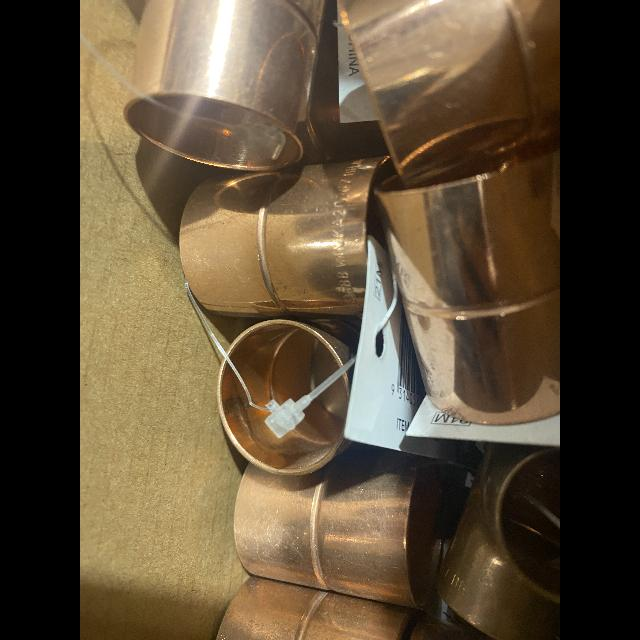Copper: (372, 146, 560, 424), (339, 0, 560, 189), (235, 443, 440, 608), (180, 158, 382, 317), (131, 0, 323, 167), (434, 447, 559, 640), (218, 362, 350, 475), (217, 577, 420, 640), (229, 320, 349, 409), (125, 96, 268, 169)
